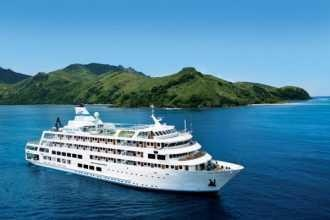youlun: (25, 102, 245, 192)
